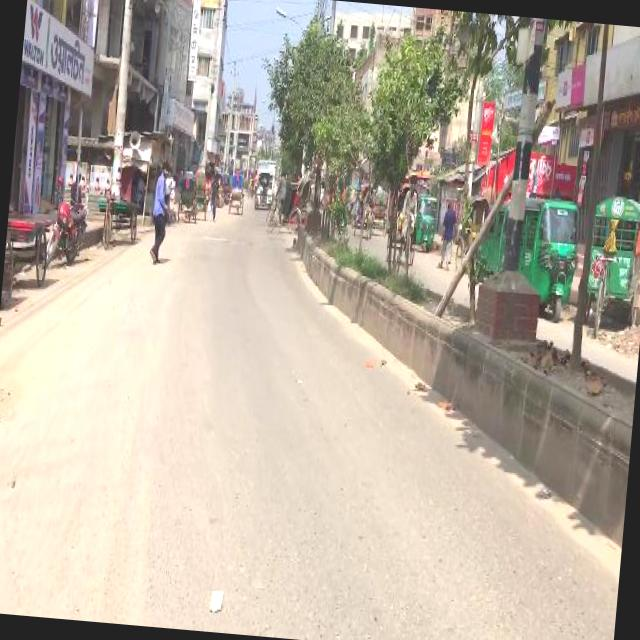bus: (251, 168, 273, 208)
motorcycle: (493, 198, 581, 322), (44, 176, 88, 270), (386, 180, 420, 262), (264, 171, 306, 234), (454, 193, 486, 270), (412, 193, 437, 249), (176, 168, 200, 222), (352, 181, 374, 237), (369, 188, 390, 232), (192, 168, 210, 217), (226, 170, 246, 212)
